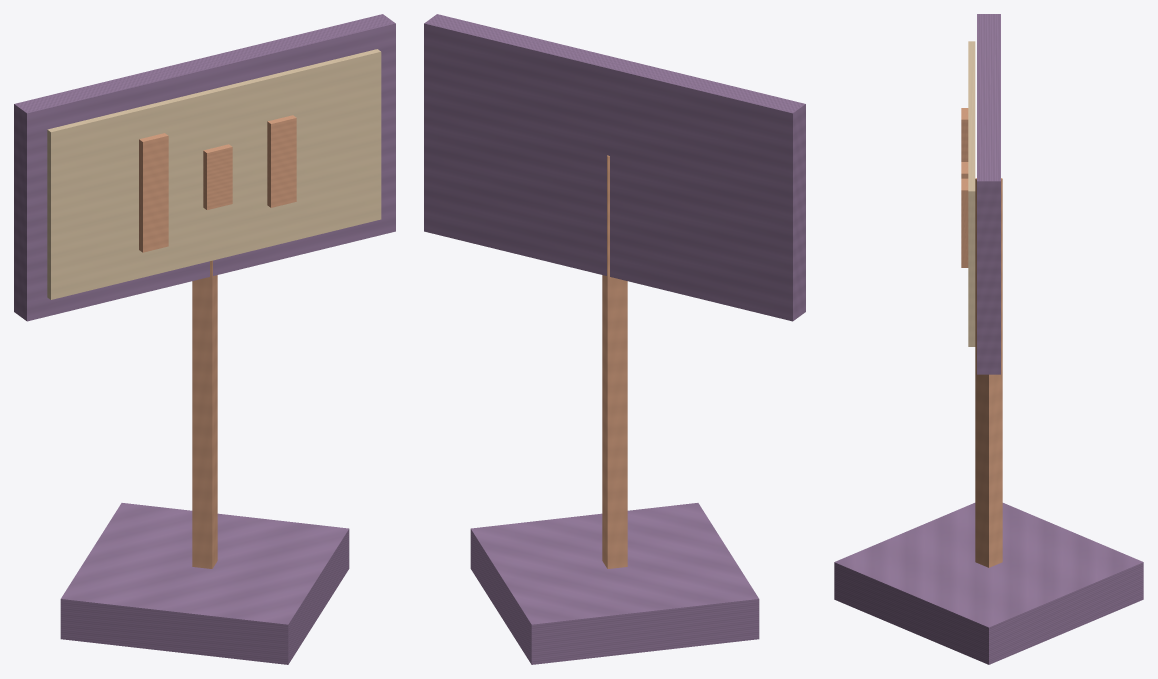
Rendered from atlas100-s083-a11.glb.
The picture shows the model from 3 angles, left to right: view 1: azimuth 30°, elevation 25°; view 2: azimuth 150°, elevation 25°; view 3: azimuth 270°, elevation 25°; orthographic projection. The views are drawn at different scales.
Parts seen in each view (by area): view 1: atlas100-s083-a11:part-003, atlas100-s083-a11:part-000, atlas100-s083-a11:part-002, atlas100-s083-a11:part-001, atlas100-s083-a11:part-004, atlas100-s083-a11:part-006, atlas100-s083-a11:part-005; view 2: atlas100-s083-a11:part-002, atlas100-s083-a11:part-000, atlas100-s083-a11:part-001; view 3: atlas100-s083-a11:part-000, atlas100-s083-a11:part-002, atlas100-s083-a11:part-001, atlas100-s083-a11:part-003, atlas100-s083-a11:part-006.
Boxes of the visible parts, x1,y1,x2,y2 form: atlas100-s083-a11:part-003: (47, 49, 381, 299); atlas100-s083-a11:part-000: (60, 503, 349, 664); atlas100-s083-a11:part-002: (14, 14, 395, 321); atlas100-s083-a11:part-001: (192, 260, 217, 568); atlas100-s083-a11:part-004: (139, 133, 168, 252); atlas100-s083-a11:part-006: (267, 115, 296, 207); atlas100-s083-a11:part-005: (203, 144, 232, 209); atlas100-s083-a11:part-002: (424, 14, 805, 321); atlas100-s083-a11:part-000: (470, 503, 759, 664); atlas100-s083-a11:part-001: (602, 155, 627, 568); atlas100-s083-a11:part-000: (834, 503, 1143, 664); atlas100-s083-a11:part-002: (977, 14, 1000, 374); atlas100-s083-a11:part-001: (975, 178, 1002, 567); atlas100-s083-a11:part-003: (968, 41, 975, 346); atlas100-s083-a11:part-006: (961, 178, 968, 267).
Size of the model in its own units: 1.15 by 1.61 by 0.9.
Materials: 3 (3 with a texture image).
